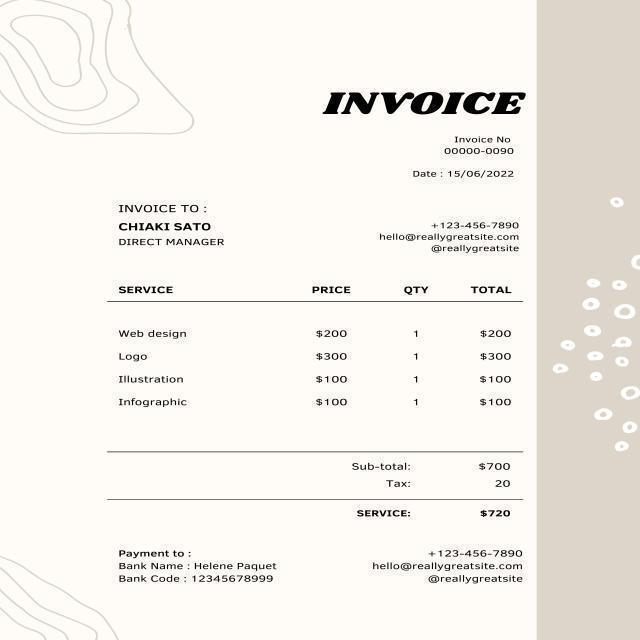paragraph: (109, 539, 290, 592), (346, 453, 517, 504), (369, 542, 529, 596), (321, 85, 528, 122), (363, 216, 532, 257), (112, 199, 244, 248), (329, 506, 522, 525), (435, 125, 523, 159), (395, 169, 523, 185)
table: (95, 279, 525, 423)
